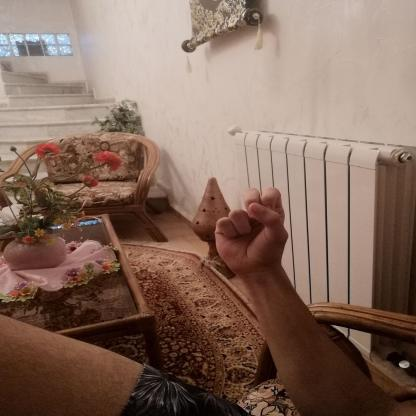QAAF: (201, 181, 303, 282)
